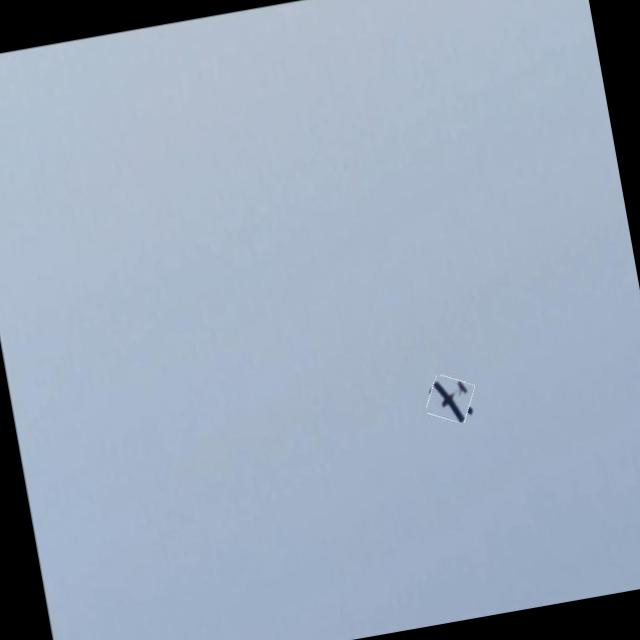UAV: (418, 337, 508, 427)
